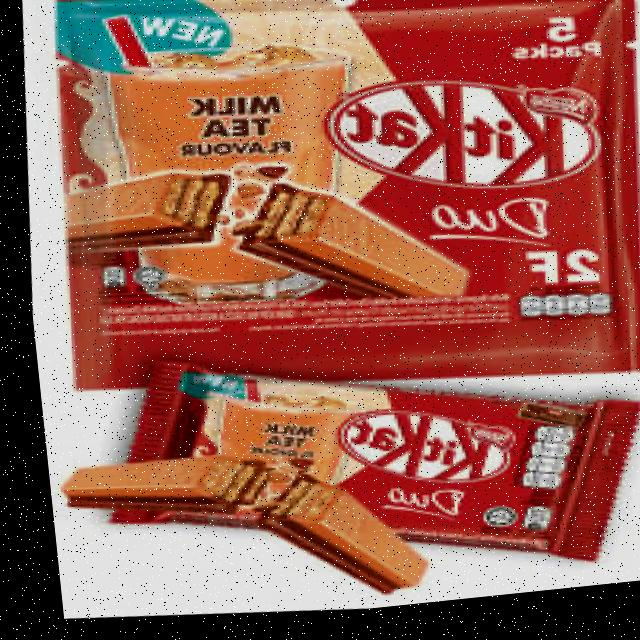kitkat: (71, 317, 640, 618)
